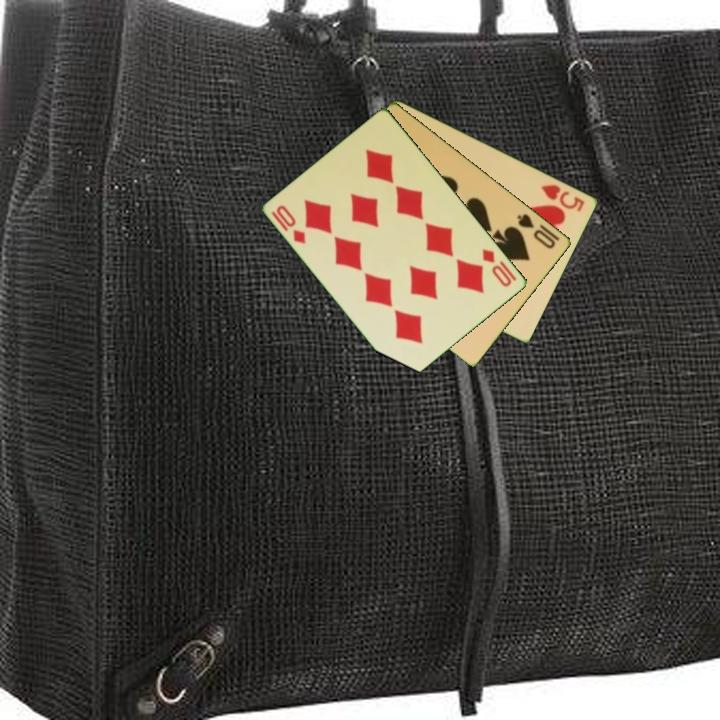10d: (268, 201, 309, 247), (479, 245, 515, 290)
10s: (514, 210, 559, 252)
5h: (537, 181, 588, 214)
